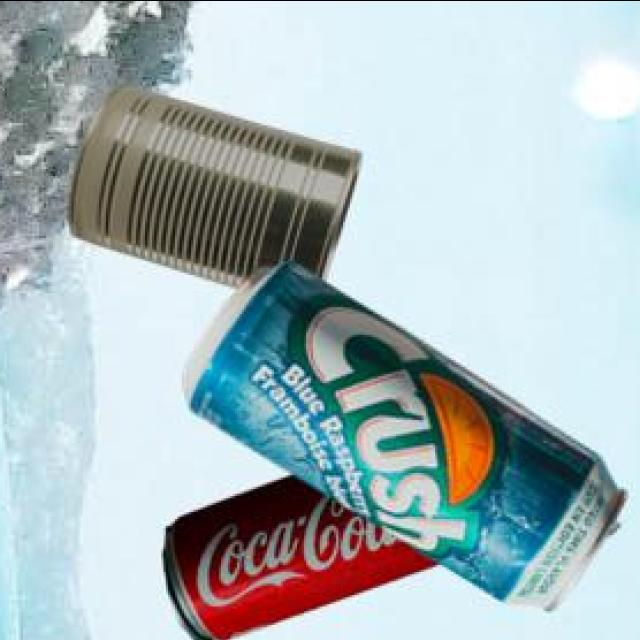logam: (185, 257, 630, 607), (73, 82, 365, 284), (167, 471, 443, 640)
